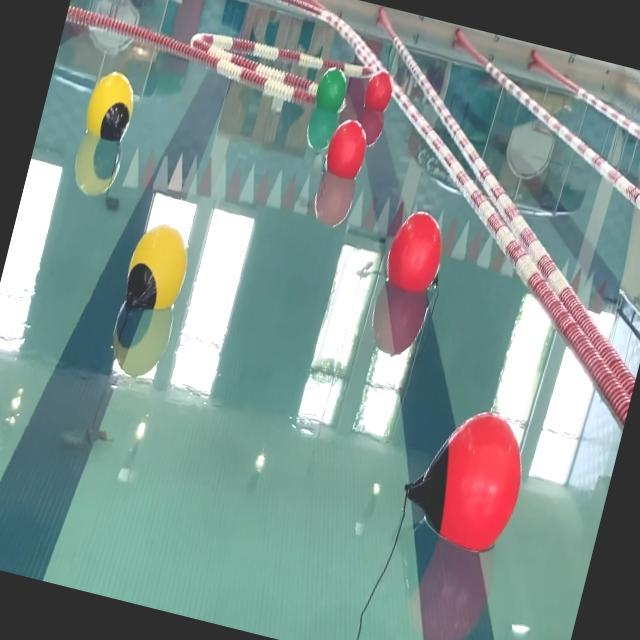buoy: (392, 397, 538, 562), (116, 217, 196, 318), (380, 204, 454, 300), (81, 65, 142, 146), (322, 112, 373, 182), (314, 65, 352, 115), (360, 68, 395, 114)
